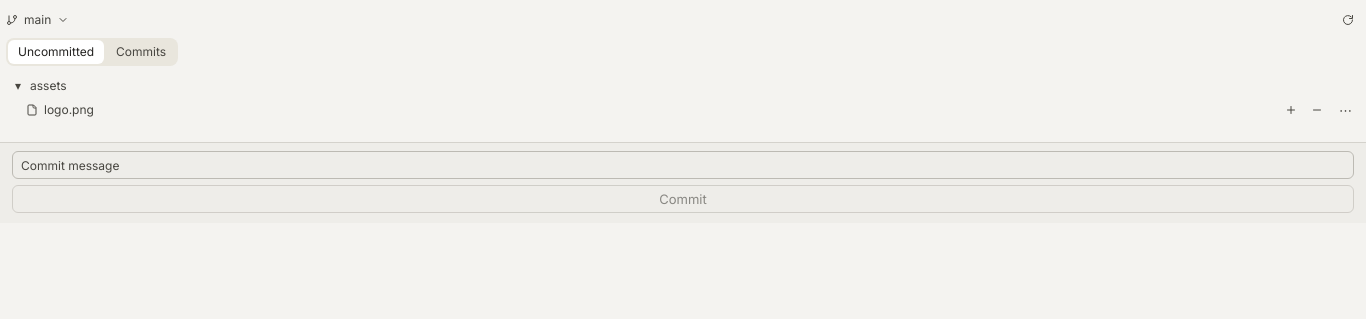
Test: ChangesSurface › reports a binary file as its own answer, with no lines and no flag claims
Click the button with class "workspace-file-change" at coordinates (74, 110), box x1=6 y1=98 x2=1275 y2=122
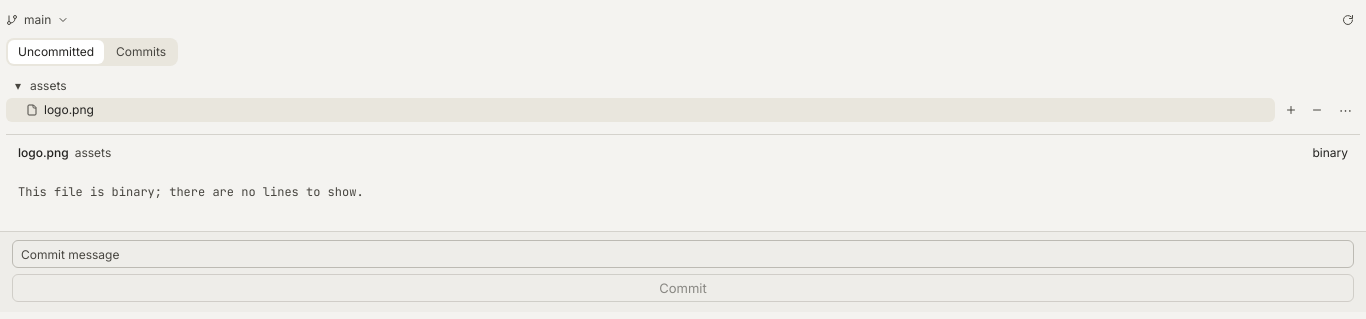
Now the text "This file is binary; there are no lines to show." is shown, box x1=18 y1=184 x2=364 y2=200
Now the text with class "workspace-changes-diff-state" reads "binary", box x1=1312 y1=145 x2=1348 y2=160
